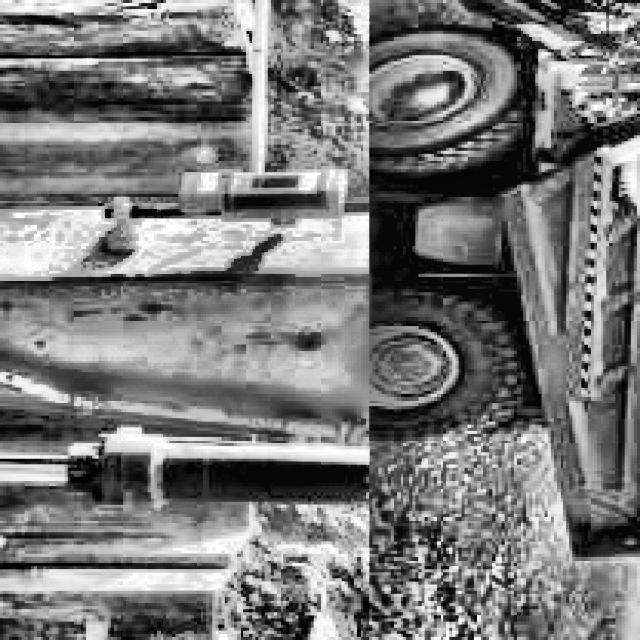dump_truck: (369, 0, 640, 563)
excavator: (0, 0, 366, 548)
